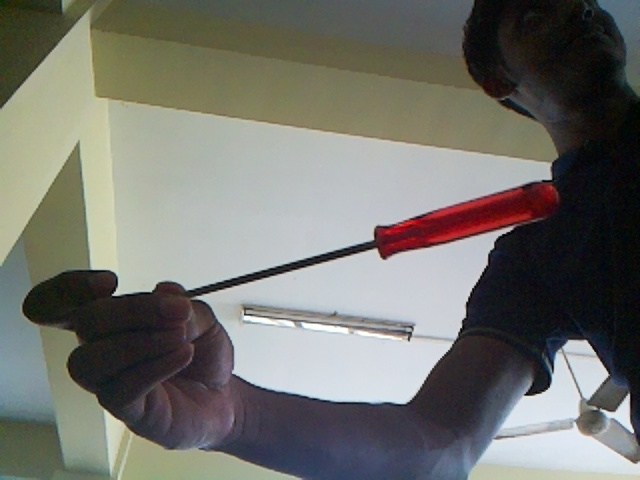redskrew: (172, 178, 559, 291)
